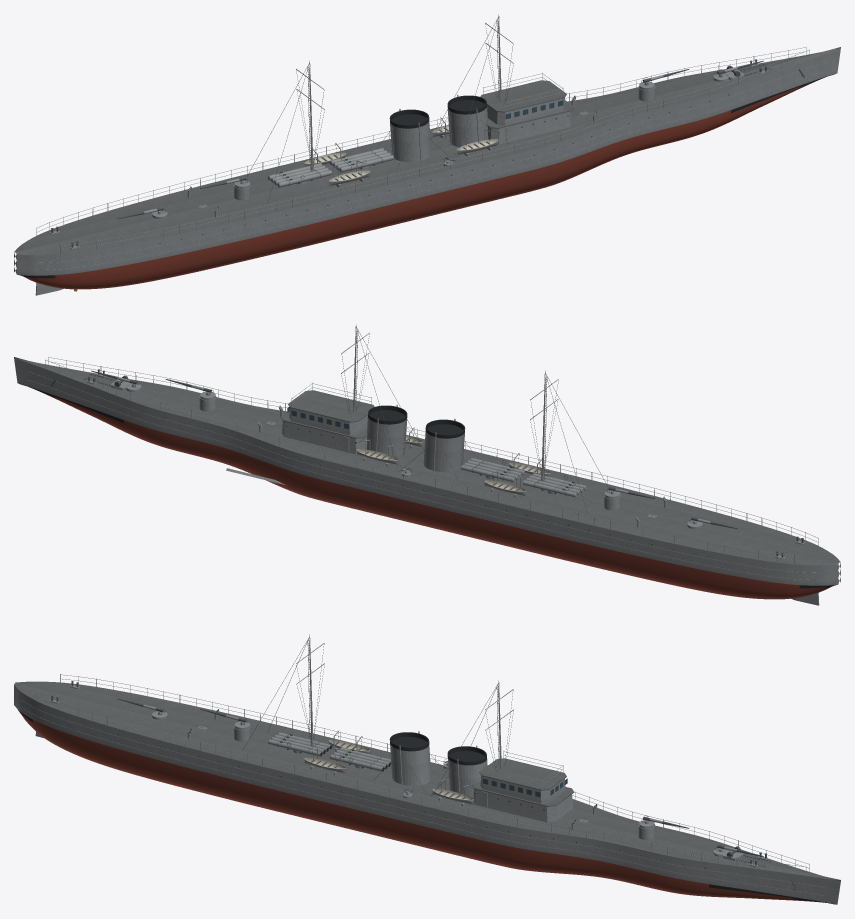
Rendered from sabre_dd22.glb.
3 views of the same model, one above another, from view 1: azimuth 30°, elevation 25°; view 2: azimuth 150°, elevation 25°; view 3: azimuth 330°, elevation 25° (orthographic).
Visible parts, largest first — view 1: Sabre class; view 2: Sabre class; view 3: Sabre class.
Boxes of the visible parts, x1,y1,x2,y2 form: Sabre class: [14, 14, 840, 295]; Sabre class: [14, 324, 840, 605]; Sabre class: [14, 634, 840, 904].
Size of the model in its own units: 104 by 20.53 by 10.93.
8 materials, 2 textured.
